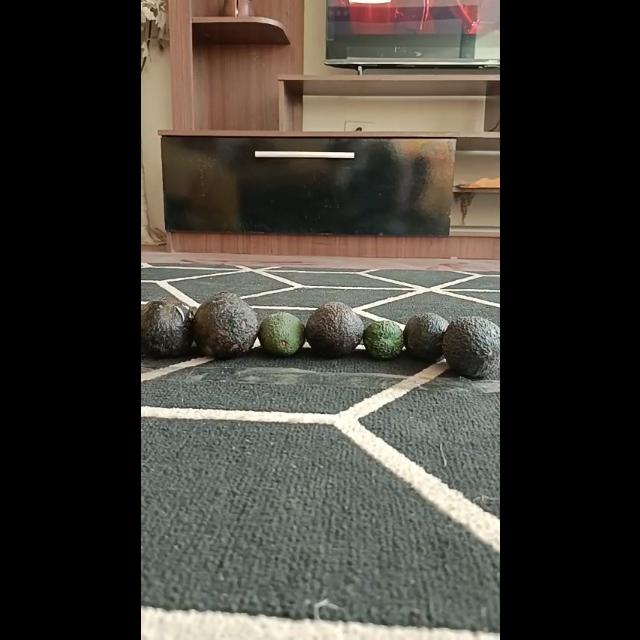Primera: (192, 293, 258, 359), (442, 316, 498, 378), (304, 302, 364, 356), (140, 298, 192, 358)
Segunda: (402, 312, 448, 360), (256, 312, 304, 356), (363, 320, 405, 360)
